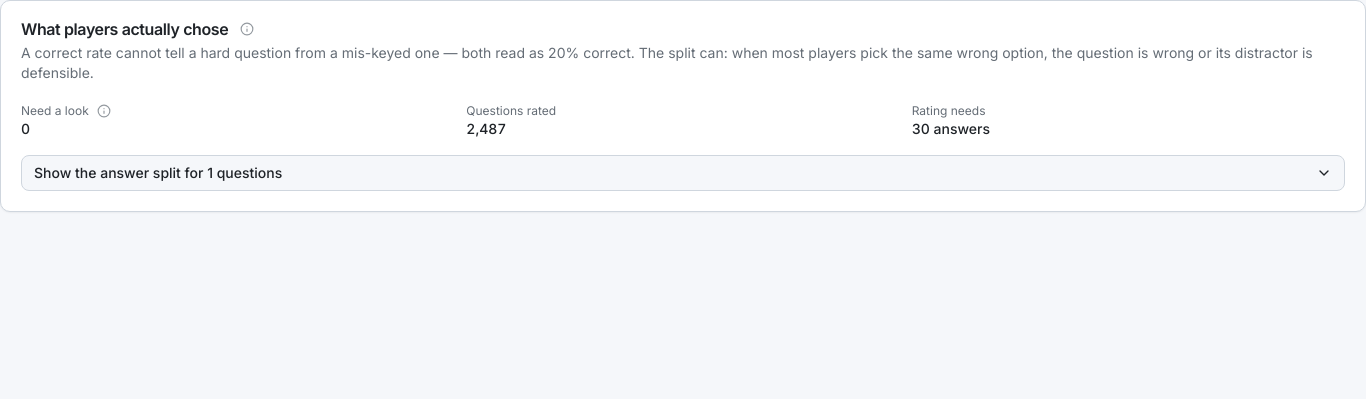
Test: questionQuality › shows a count rather than "null%" when every answer timed out
Click the button "Show the answer split for 1 questions": [158, 172] box 21,155 -> 1345,191
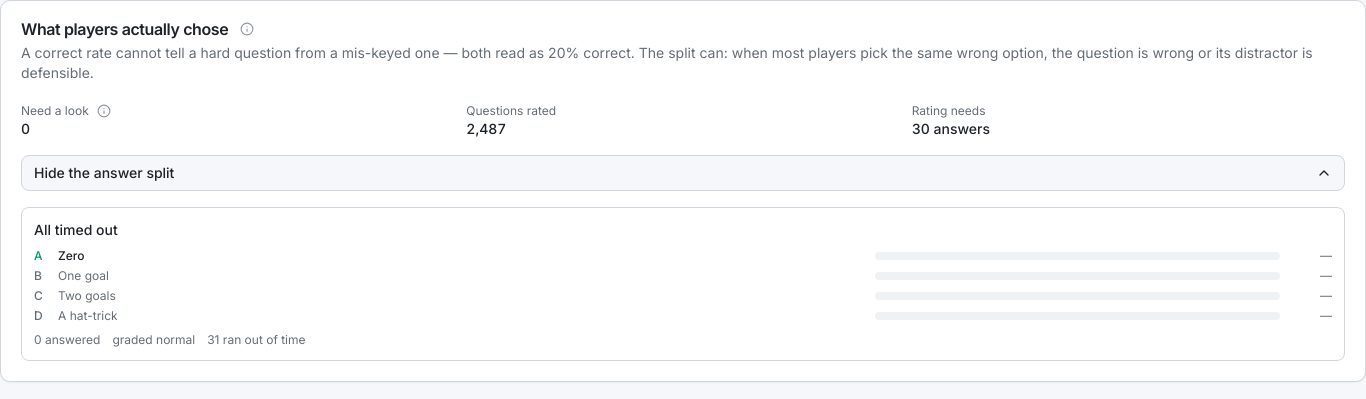
expect the text "31 ran out of time" is shown: met, box 207,332 -> 306,348
